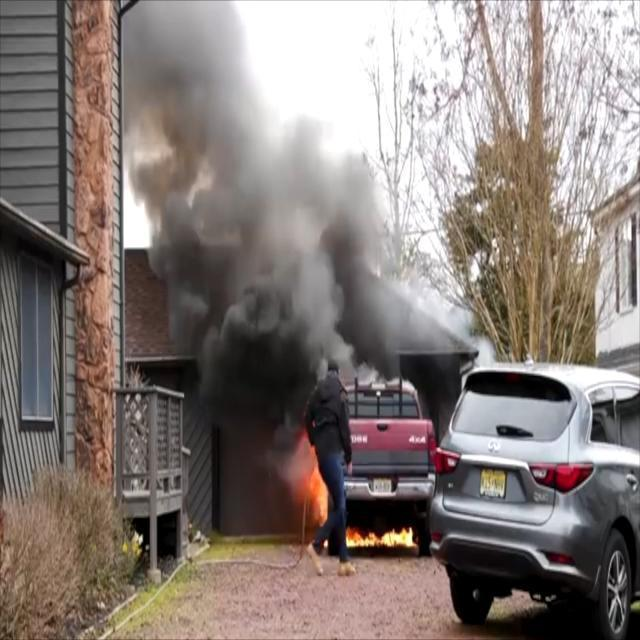fire: (283, 430, 333, 541), (338, 518, 420, 554)
